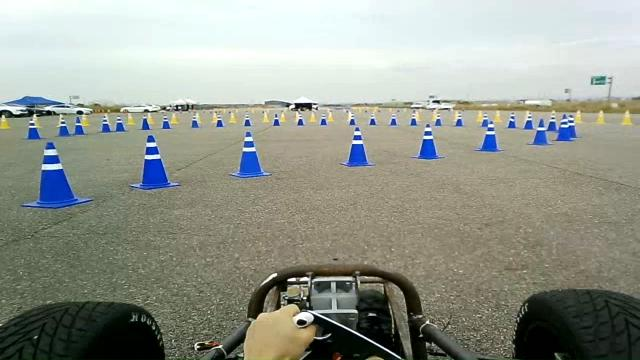blue cone: (21, 141, 94, 209), (128, 134, 181, 190), (228, 131, 272, 178), (339, 126, 376, 167), (410, 124, 445, 160), (474, 121, 504, 152), (526, 118, 553, 146), (553, 115, 574, 141), (566, 114, 580, 138)
yellow cone: (620, 110, 633, 125), (595, 109, 605, 124), (574, 109, 582, 123)
